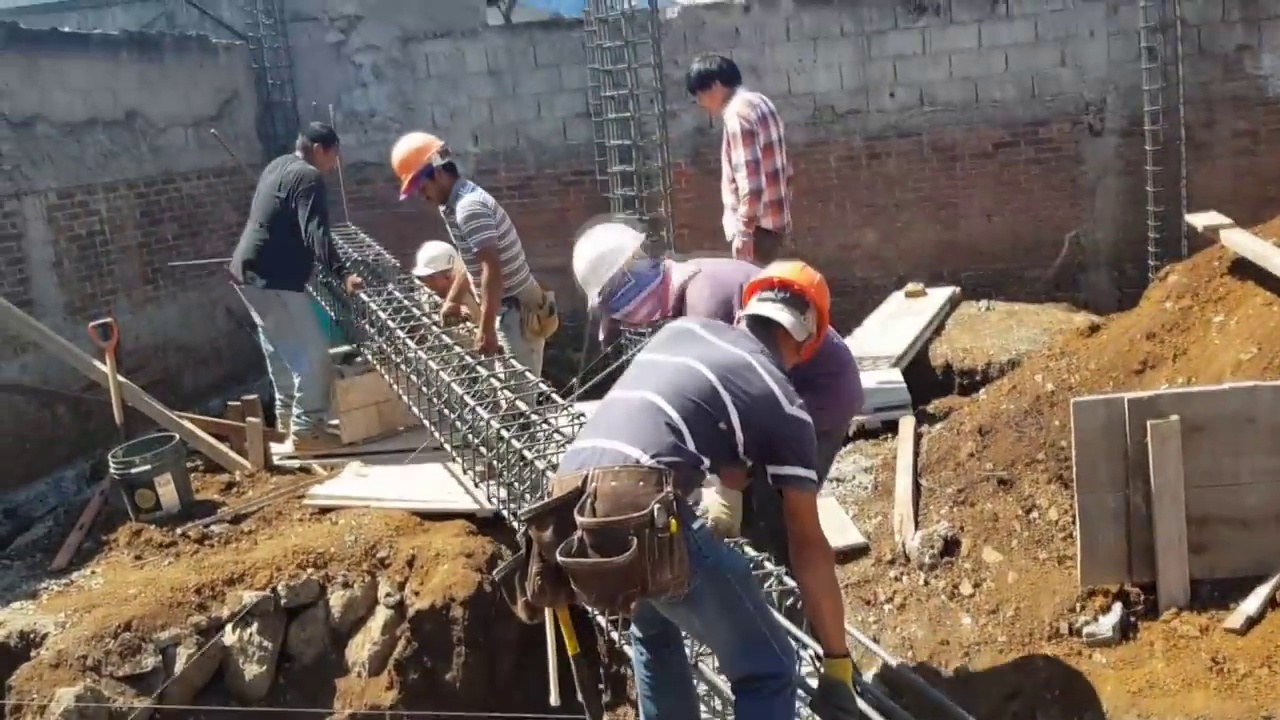helmet: (735, 258, 834, 367), (571, 221, 643, 320), (386, 132, 447, 198), (406, 237, 462, 278)
helmet-off: (686, 55, 746, 115), (294, 117, 340, 173)
helmet-on: (572, 221, 691, 333), (729, 259, 835, 373), (385, 130, 464, 210), (406, 231, 464, 298)
person: (549, 256, 885, 720), (722, 259, 888, 541), (225, 111, 350, 445), (394, 118, 542, 374), (675, 58, 793, 265), (570, 232, 772, 352)
